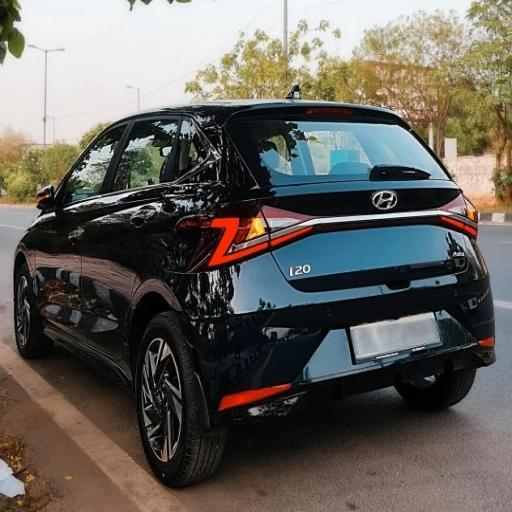License: (346, 312, 442, 359)
